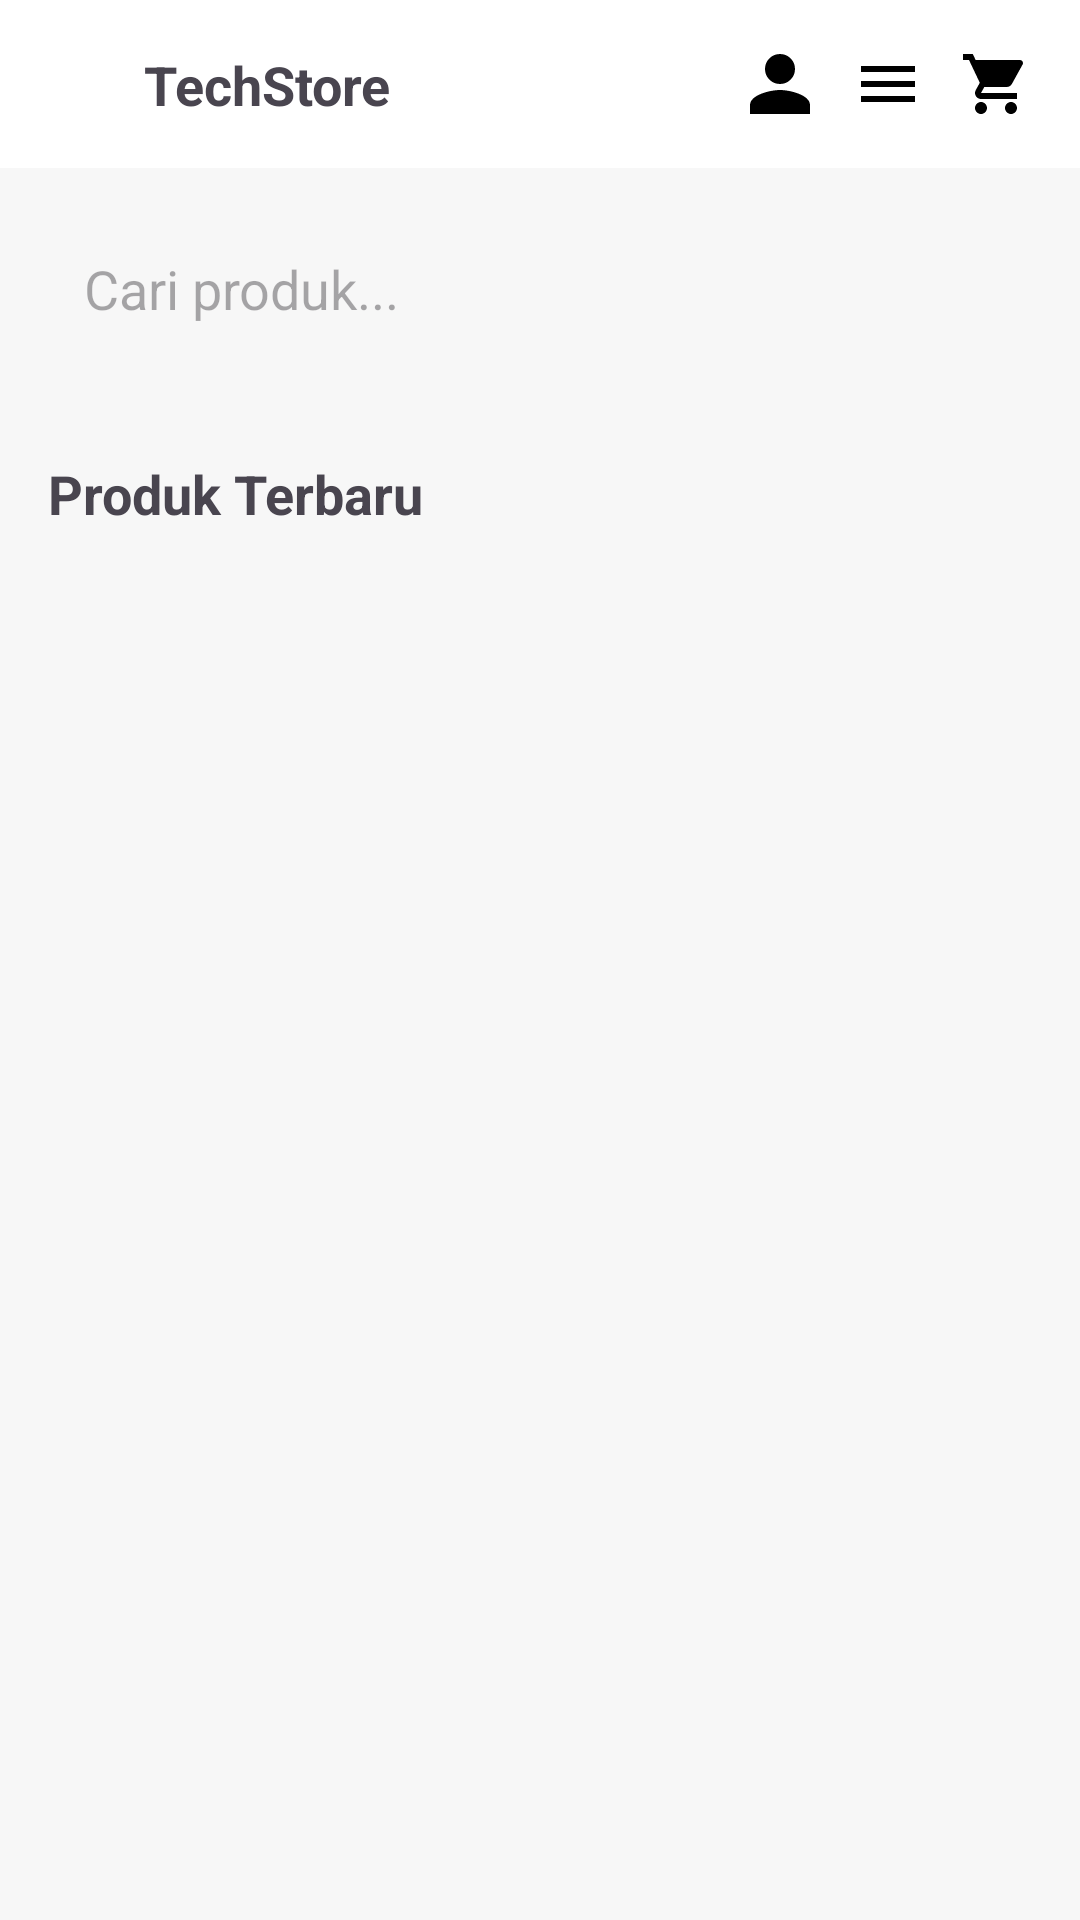

Point at icon controls on the screen. Image size 1080px x 1920px, points as point (x, y).
cart: point (993, 84)
list: point (888, 84)
Profile: point (780, 84)
